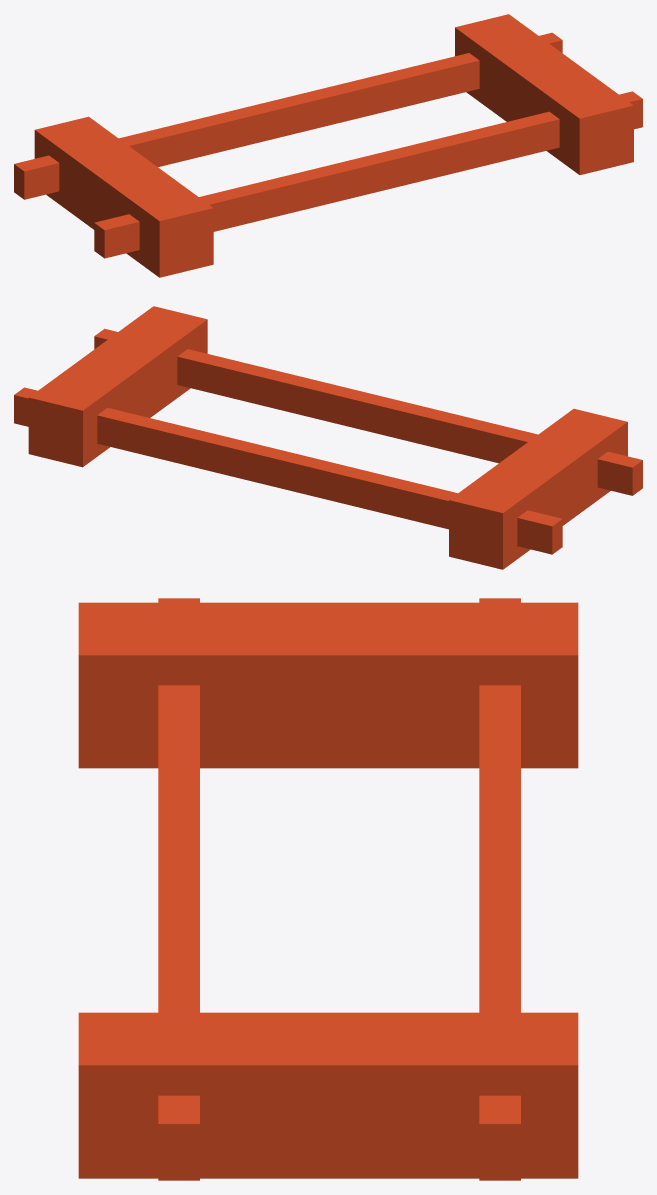
The model's file is Fences 11.fbx.
3 views of the same model, one above another, from view 1: azimuth 30°, elevation 25°; view 2: azimuth 150°, elevation 25°; view 3: azimuth 270°, elevation 25° (orthographic). The views are drawn at different scales.
Parts seen in each view (by area): view 1: Fence4; view 2: Fence4; view 3: Fence4.
Part boxes in pixels (left/top/right/bottom): Fence4: left=14, top=14, right=642, bottom=277; Fence4: left=14, top=306, right=642, bottom=569; Fence4: left=78, top=598, right=578, bottom=1180.
Bounding box in the file's own units: 24888 × 2500 × 10000.
